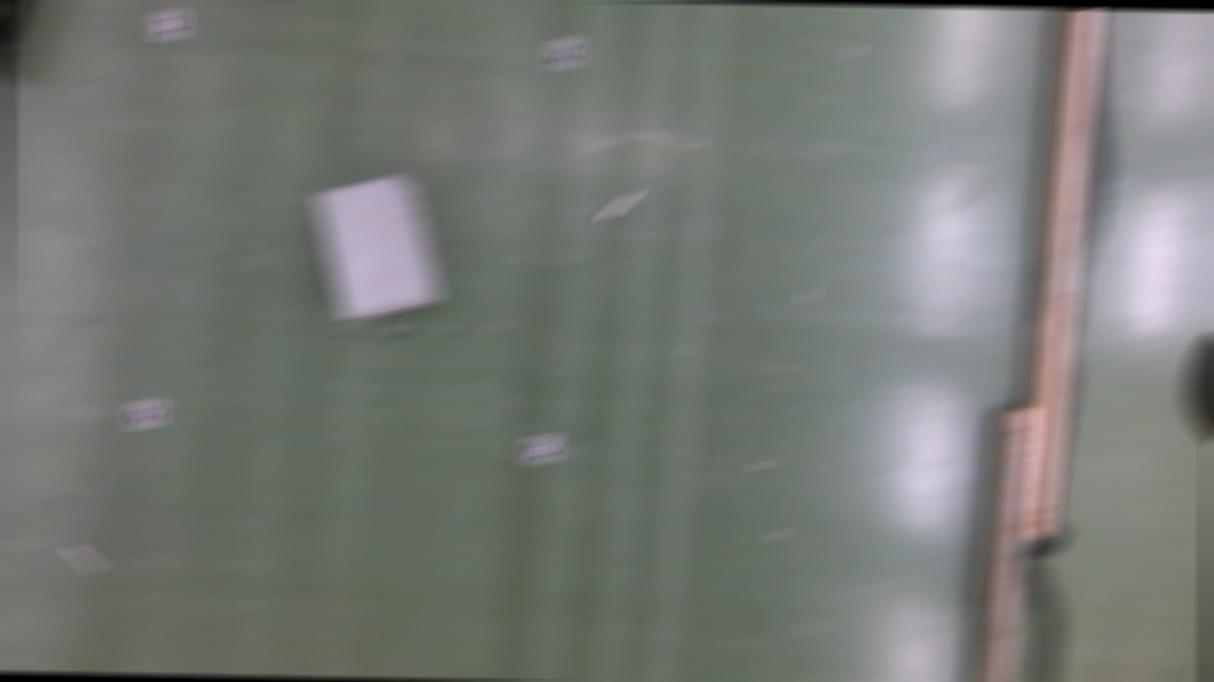probes: (602, 188, 640, 219), (68, 542, 105, 572)
rako: (310, 170, 444, 318)
